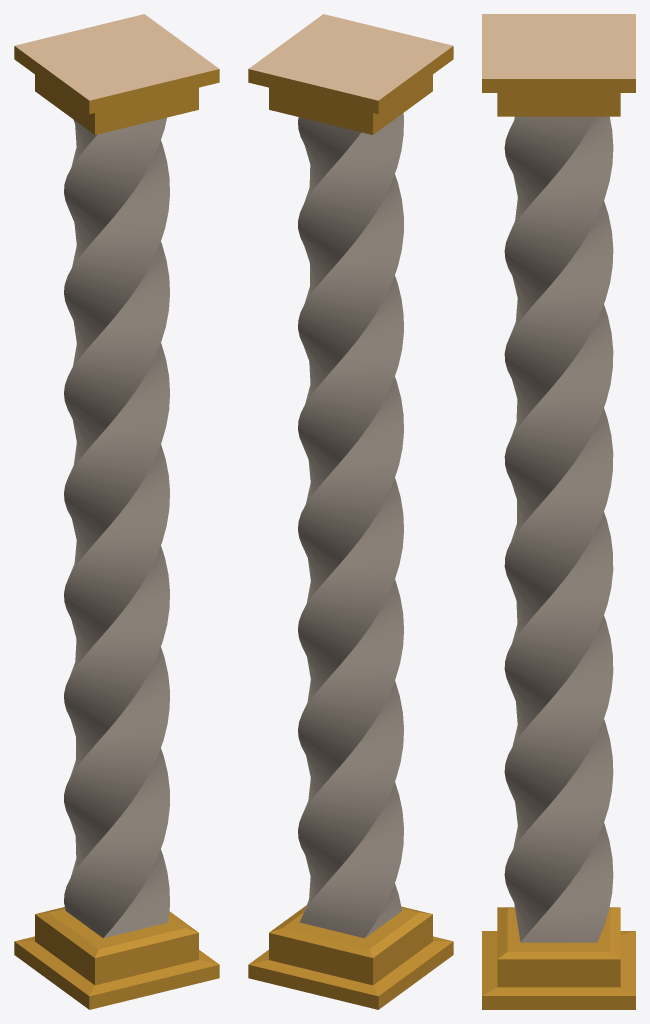
Rendered from Pillar.fbx.
The picture shows the model from 3 angles, left to right: view 1: azimuth 30°, elevation 25°; view 2: azimuth 150°, elevation 25°; view 3: azimuth 270°, elevation 25°; orthographic projection. The views are drawn at different scales.
Visible parts, largest first — view 1: Pillar, Base.001, Base; view 2: Pillar, Base.001, Base; view 3: Pillar, Base.001, Base.
Boxes of the visible parts, x1=… form: Pillar: x1=64, y1=117, x2=169, y2=938; Base.001: x1=14, y1=14, x2=219, y2=134; Base: x1=14, y1=907, x2=219, y2=1009; Pillar: x1=298, y1=113, x2=403, y2=938; Base.001: x1=248, y1=14, x2=453, y2=134; Base: x1=248, y1=905, x2=453, y2=1009; Pillar: x1=504, y1=116, x2=613, y2=942; Base.001: x1=482, y1=14, x2=635, y2=116; Base: x1=482, y1=907, x2=635, y2=1009.
Bounding box in the file's own units: 60 × 401 × 60.
